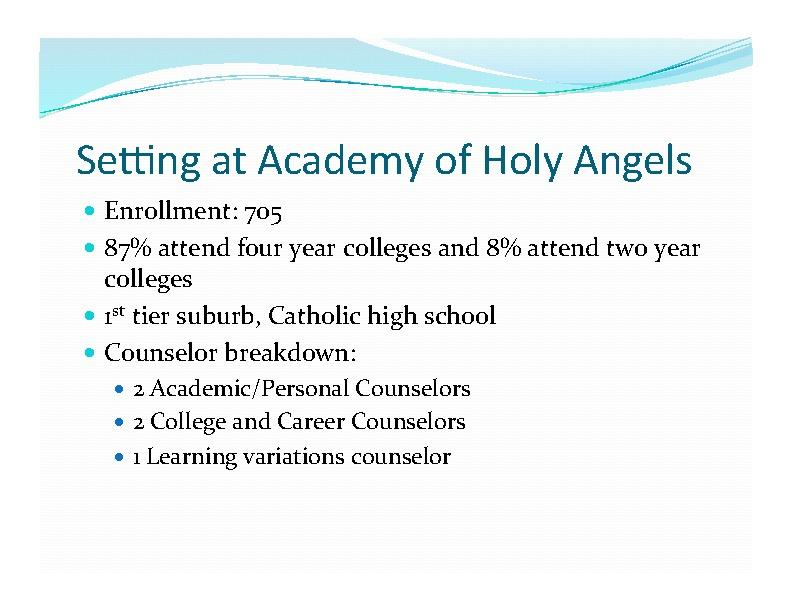paragraph: (76, 193, 741, 509)
title: (72, 128, 709, 191)
